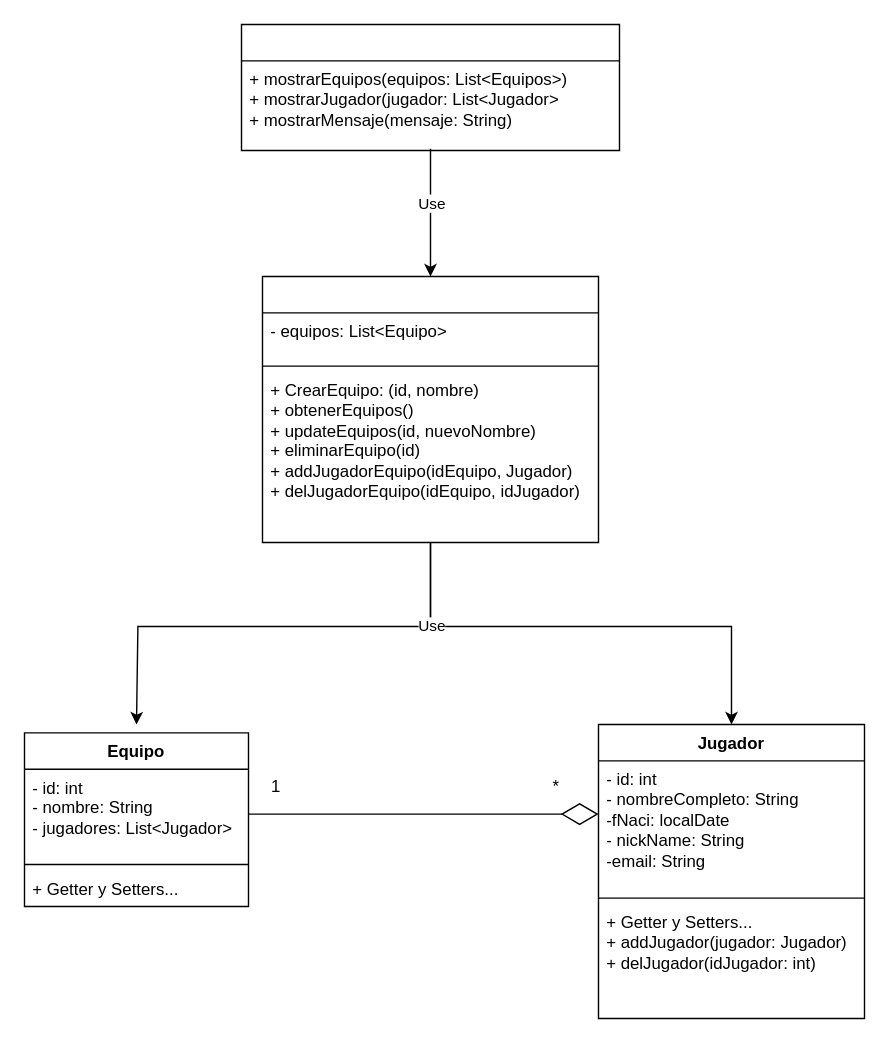
The diagram is 889 pixels wide and 1047 high, and some of its shapes have lost their labels. Each missing label, with the box of its shape:
PlayerTeamVista: (240, 23, 620, 150)
TeamPlayerManagmentControl: (261, 275, 598, 542)
